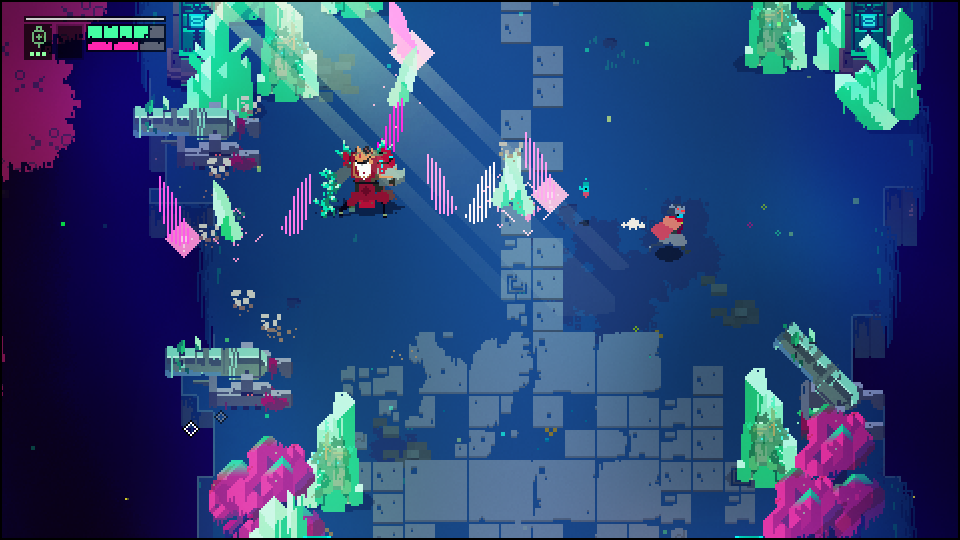hanged_crys: (496, 147, 534, 222), (155, 180, 192, 249), (281, 171, 313, 231), (213, 179, 244, 240), (388, 49, 419, 108), (424, 158, 456, 214)
hanged_man: (322, 139, 409, 222)
player: (651, 201, 690, 257)
